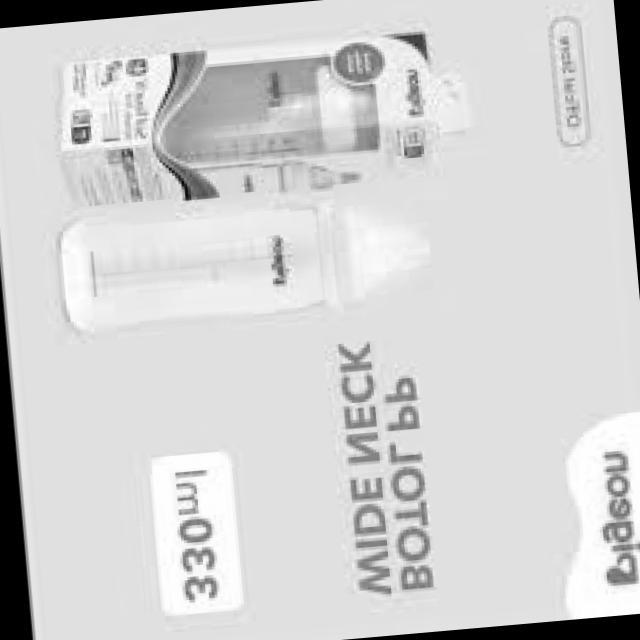good: (36, 156, 430, 342)
